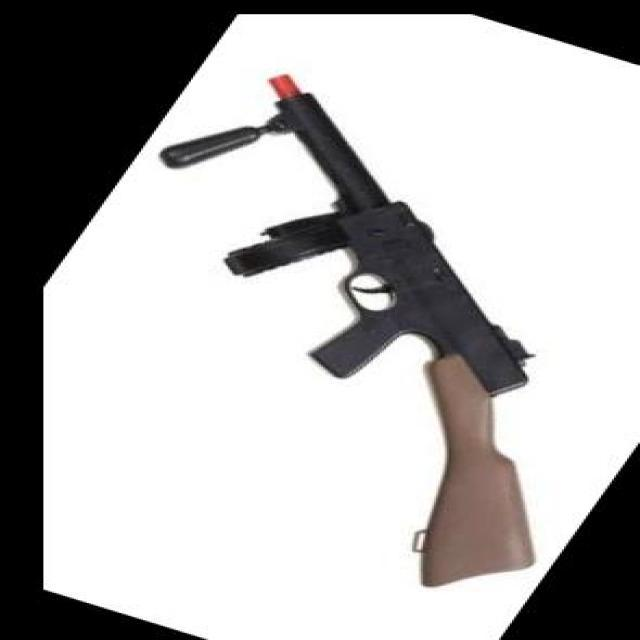weapon: (160, 71, 534, 589)
